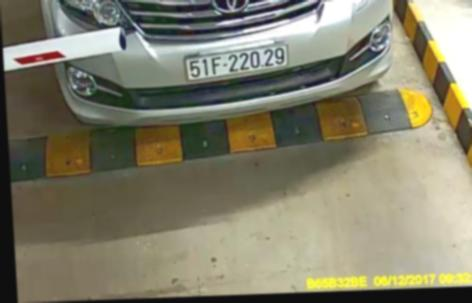License_Plate: (180, 40, 290, 87)
